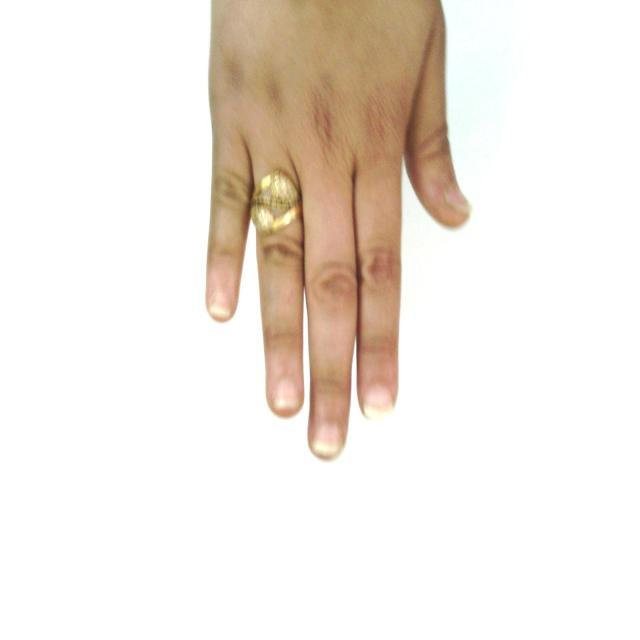Fingernail: (366, 383, 393, 420), (313, 422, 339, 453), (275, 378, 299, 408), (446, 183, 470, 213), (210, 292, 231, 318)
